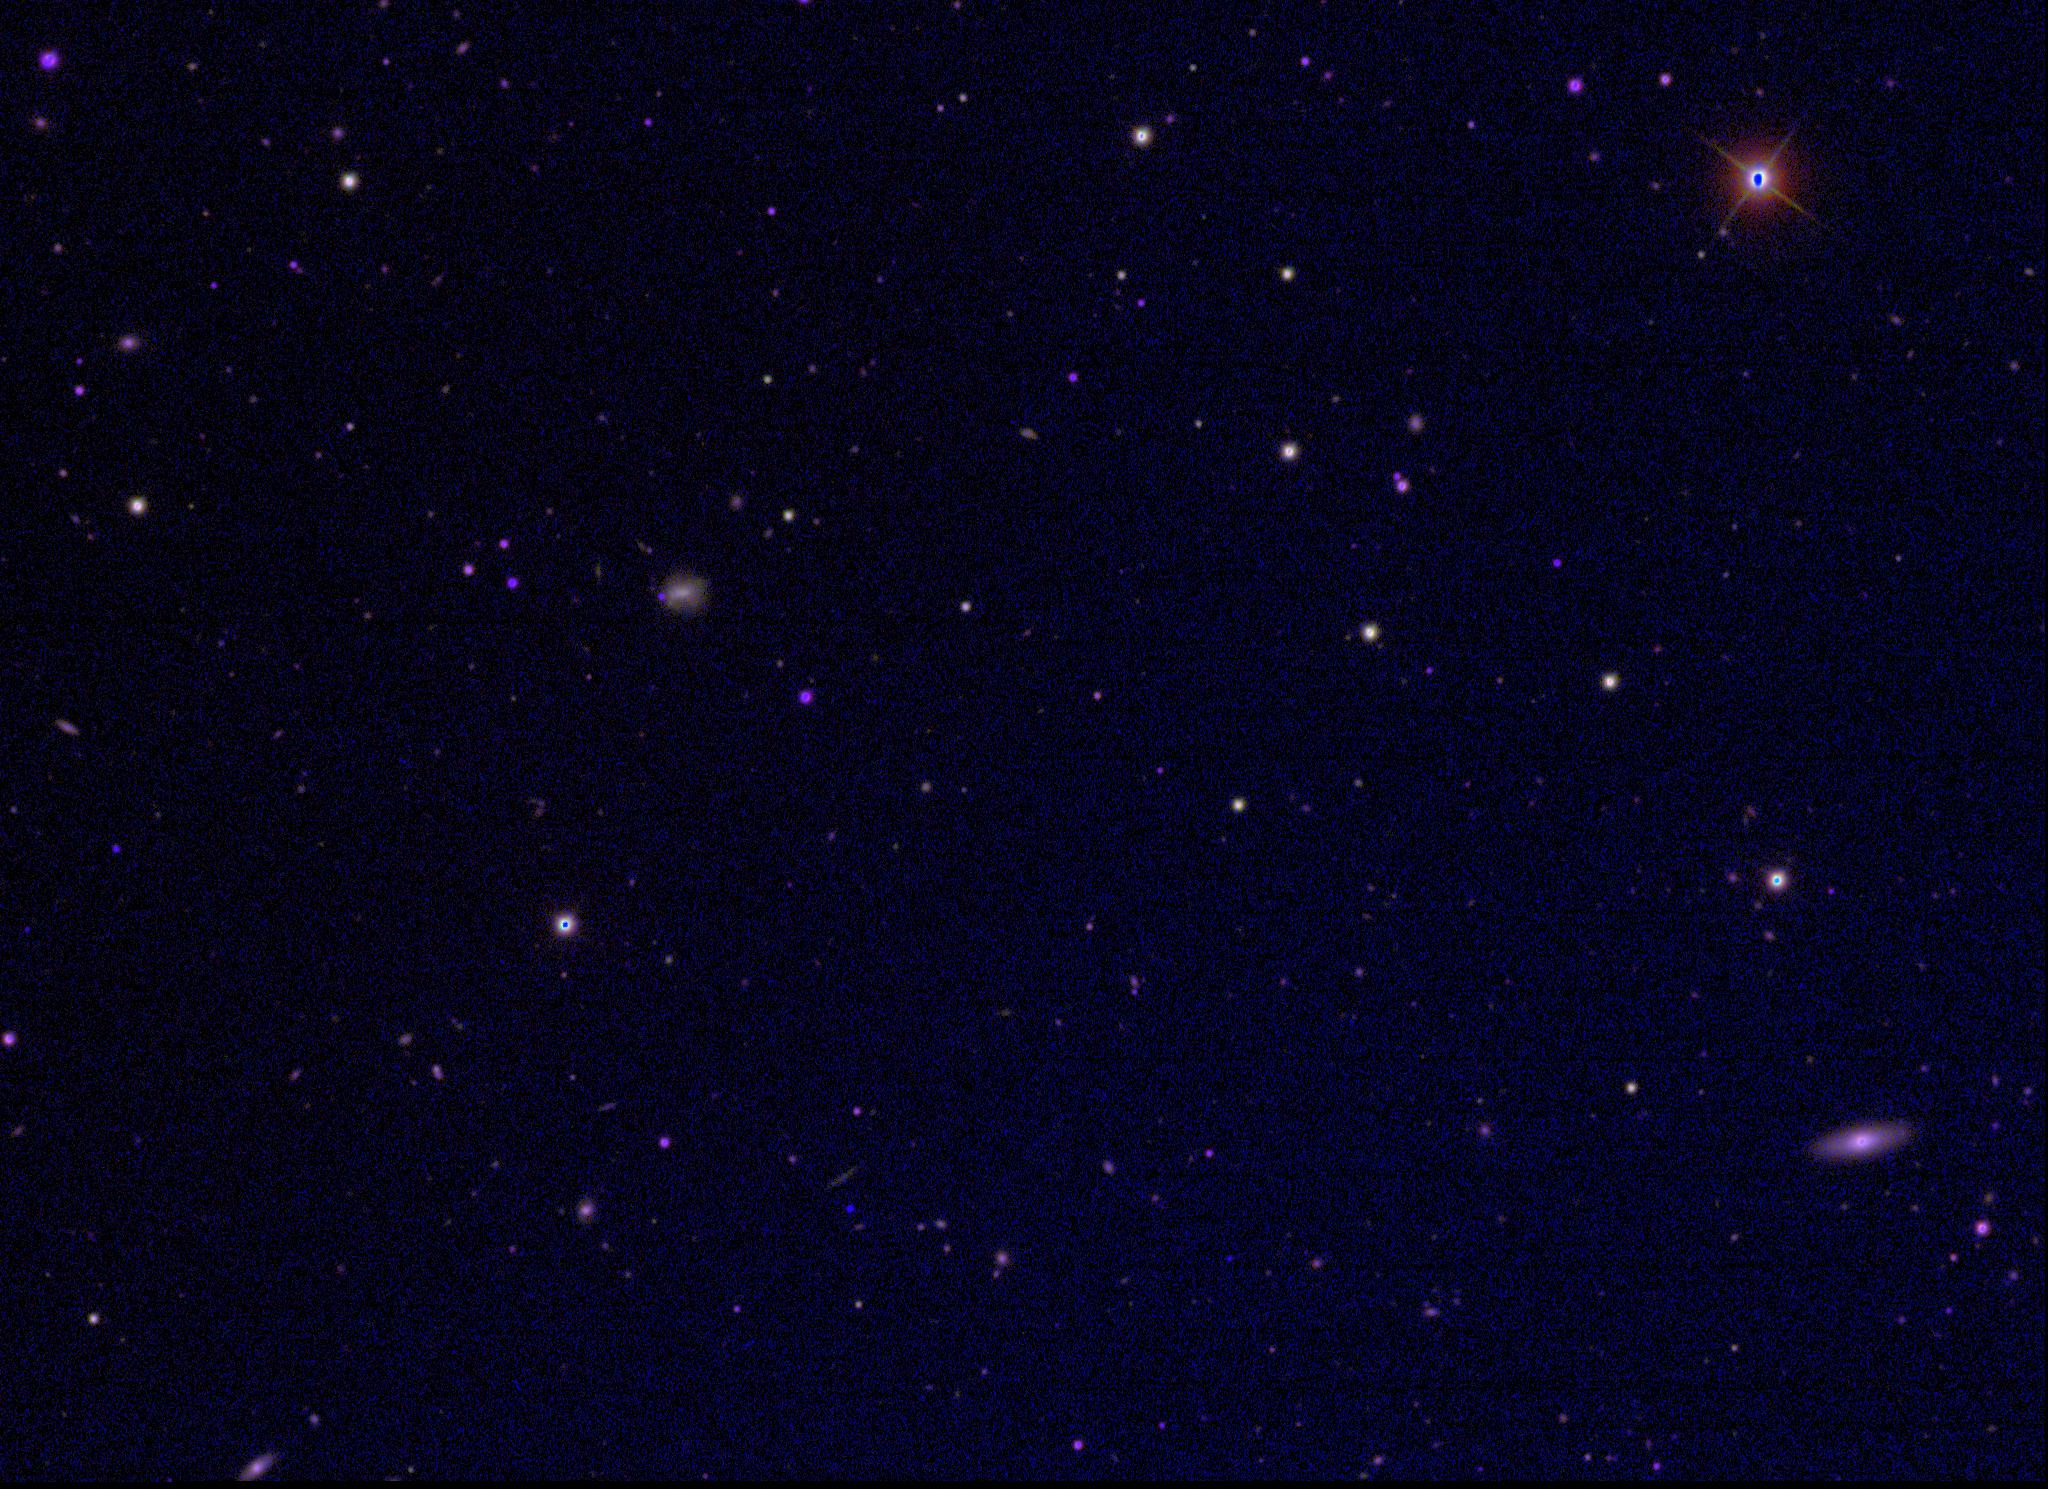L: (843, 1203, 857, 1215)
